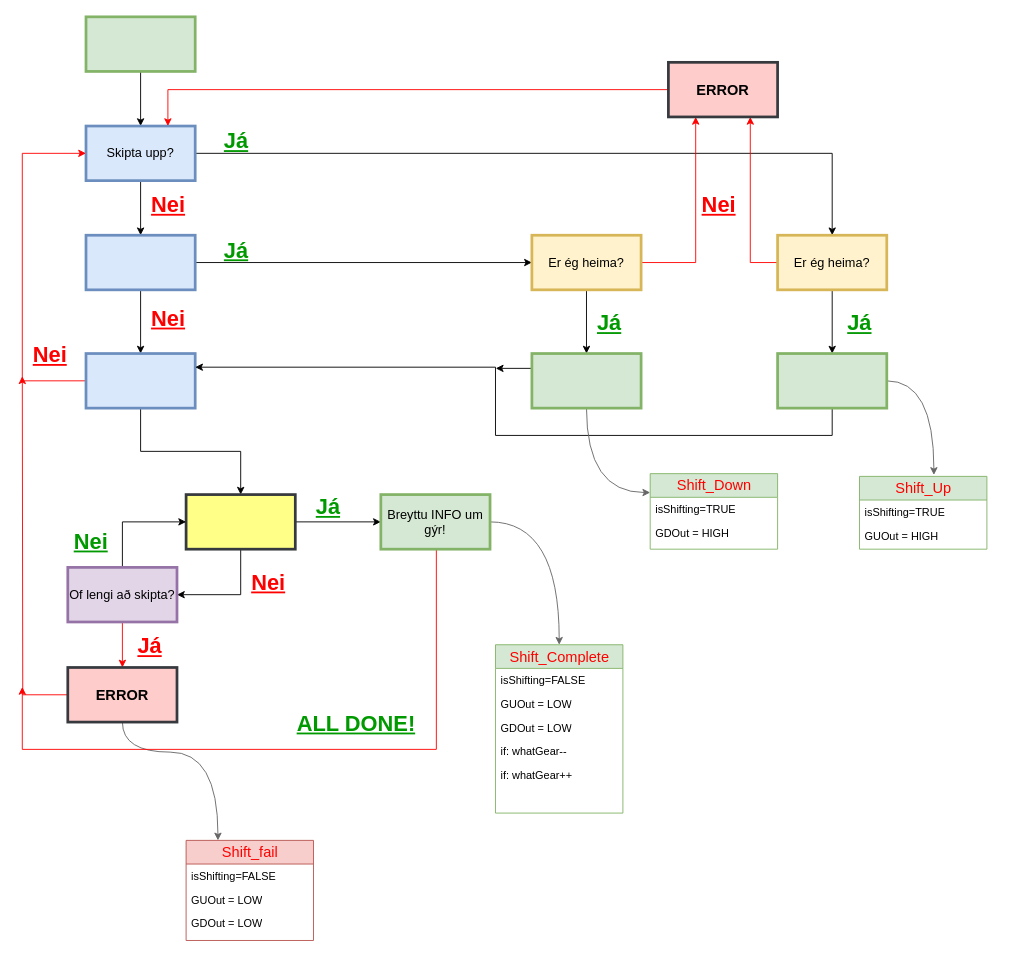
Some shapes in this 1010 by 956 pixel diagram are drawn without their labels. Each missing label, with the centre of its shape:
Búinn að skipta?: (240,521)
Erum við að skipta?: (140,380)
Skipta niður?: (140,262)
Skiptu niður!: (586,380)
Skiptu upp!: (832,380)
Startup: (140,43)
